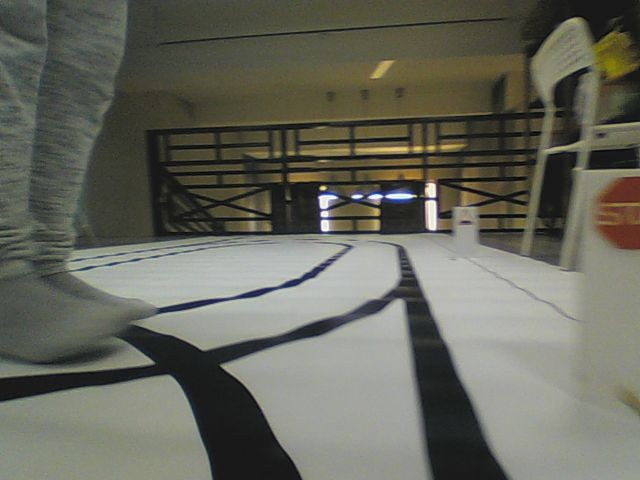Stop: (595, 174, 640, 253)
